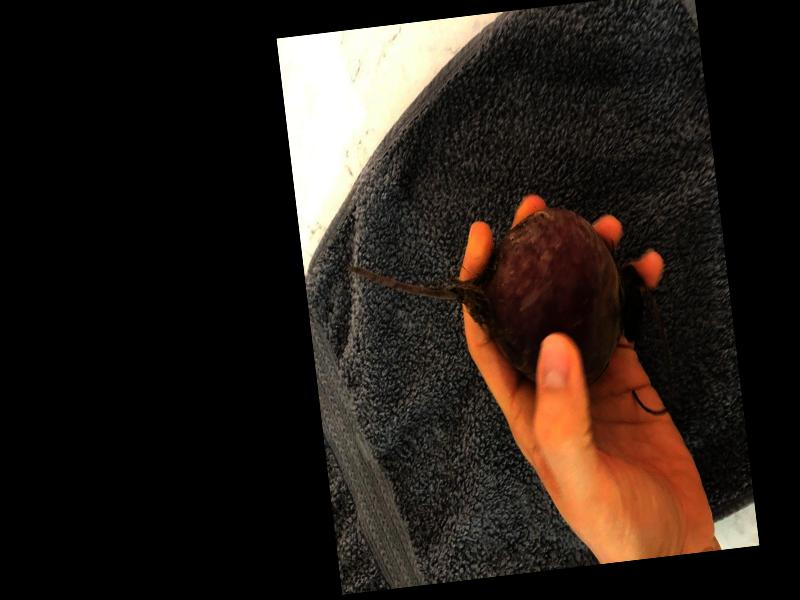Beet: (341, 198, 650, 413)
